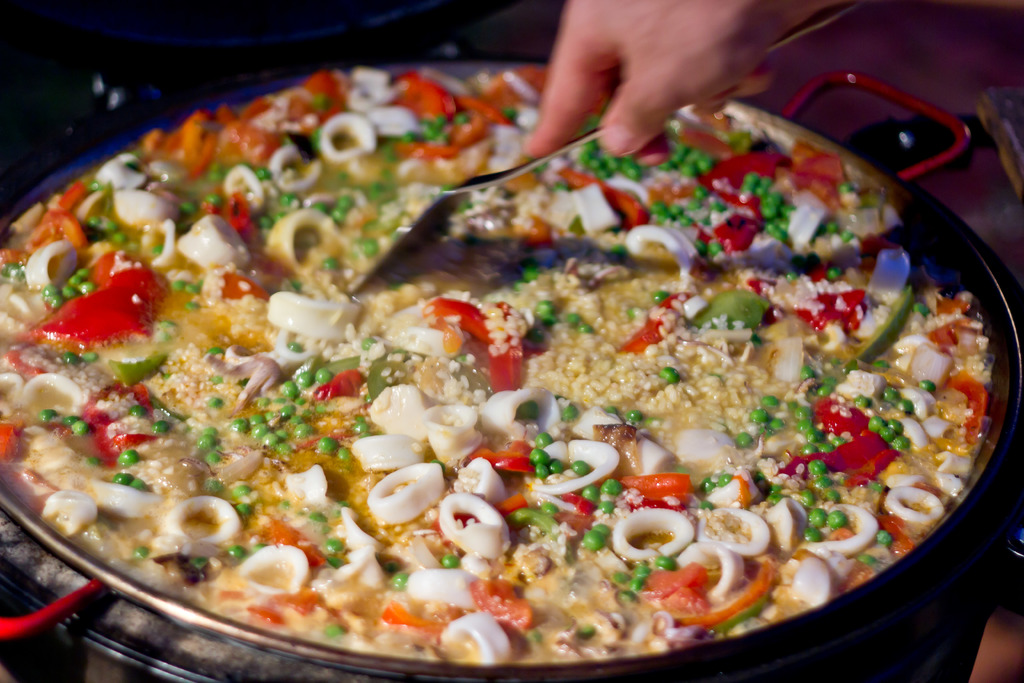Pizza: (0, 64, 967, 668)
